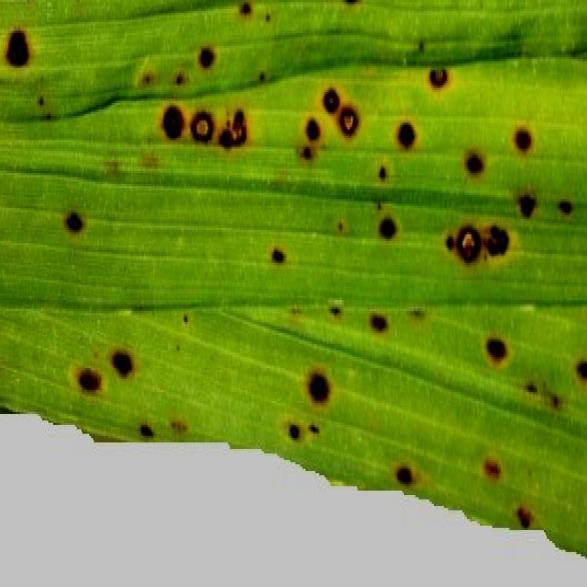Brown_Spot: (448, 188, 532, 265), (467, 296, 517, 374), (373, 180, 411, 270), (138, 401, 198, 449), (374, 445, 431, 495), (475, 427, 511, 504), (69, 331, 107, 403), (421, 26, 457, 101), (388, 92, 420, 169), (4, 7, 34, 86), (222, 94, 252, 171), (154, 88, 188, 153), (294, 112, 328, 177), (106, 309, 136, 377), (363, 280, 390, 349), (338, 92, 362, 166), (258, 235, 299, 278), (505, 473, 534, 532), (63, 184, 88, 250), (458, 134, 492, 181), (188, 90, 216, 147), (512, 103, 536, 162), (194, 37, 220, 90), (302, 366, 337, 405), (554, 173, 578, 215), (571, 337, 586, 403), (319, 68, 340, 114), (286, 418, 305, 462), (237, 0, 255, 42)
